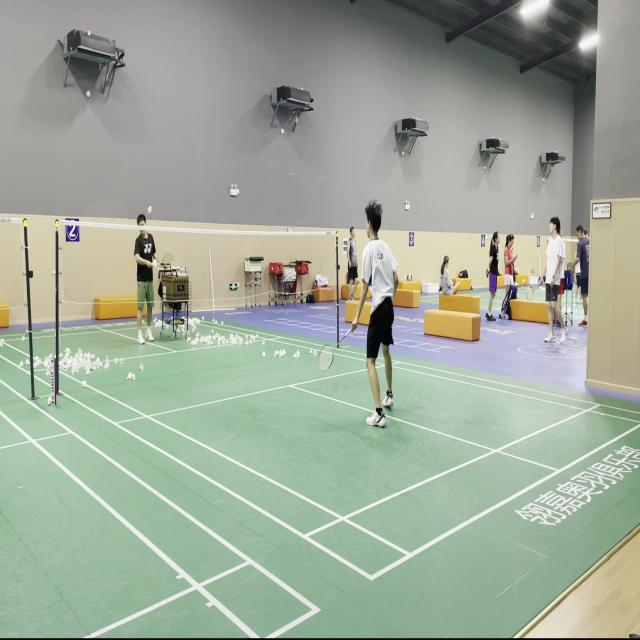shuttlecock: (148, 205, 152, 214)
